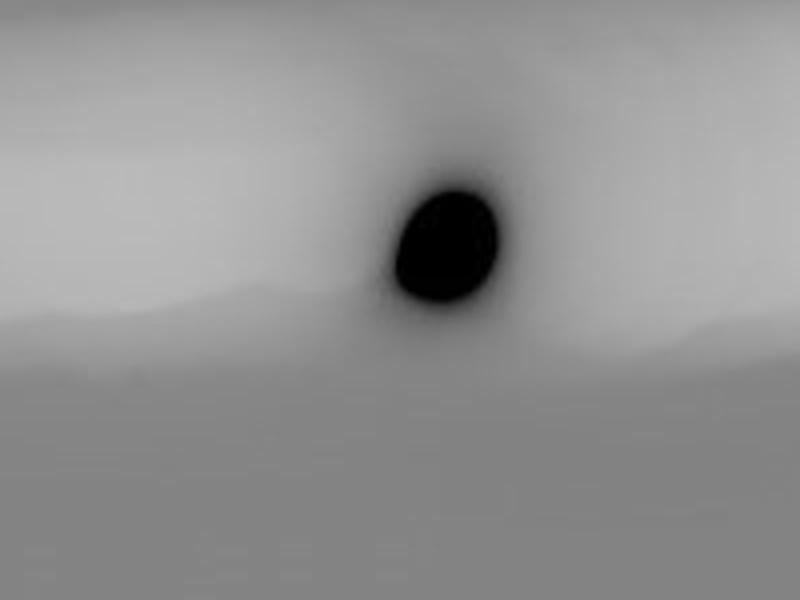defect: (391, 190, 499, 303)
